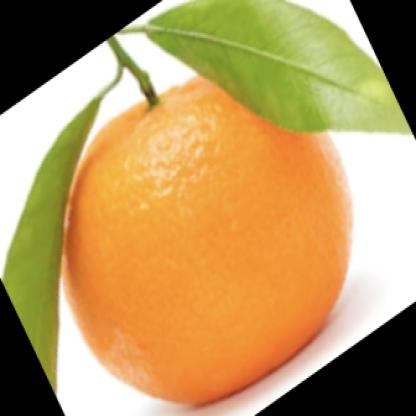fresh: (48, 53, 352, 405)
